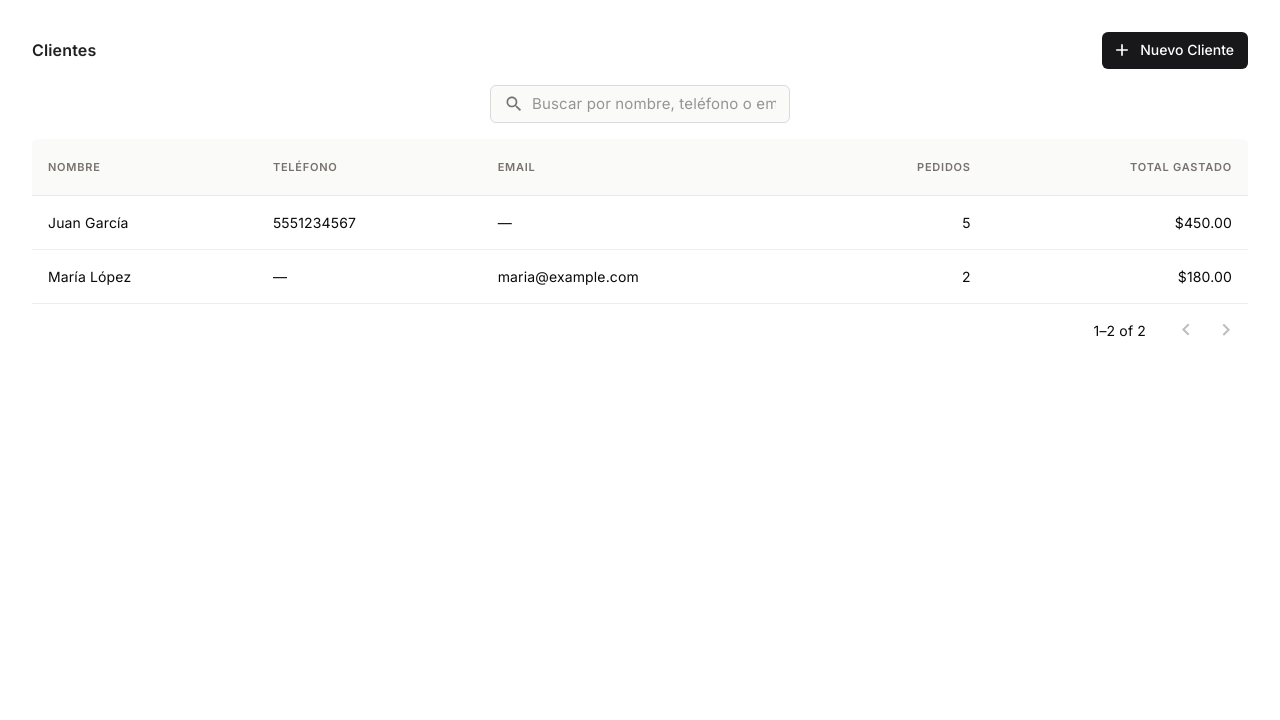
Scenario: CustomerList › saves customer edit
This screenshot has width=1280, height=720.
Click the text "Juan García" at (144, 223), box [32,196,257,250]
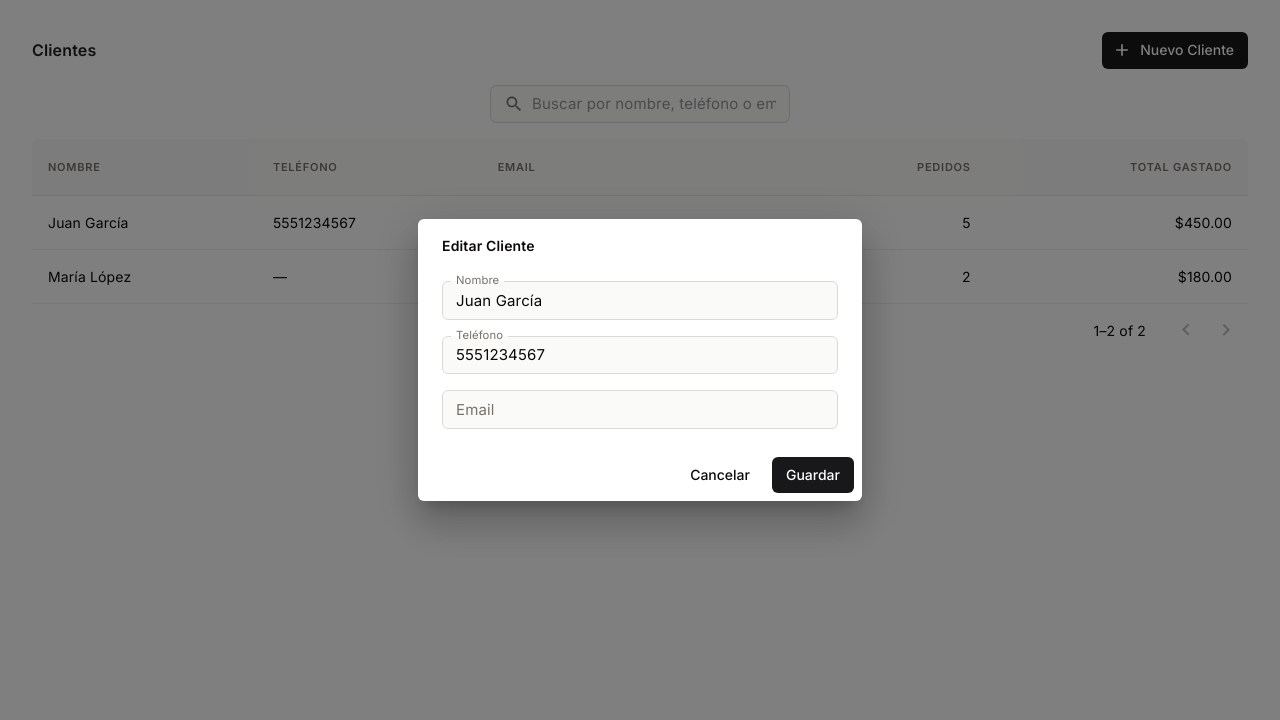
Replace the text in the field named "nombre cliente" with "Juan García Updated" at (640, 300), box [442,281,838,320]
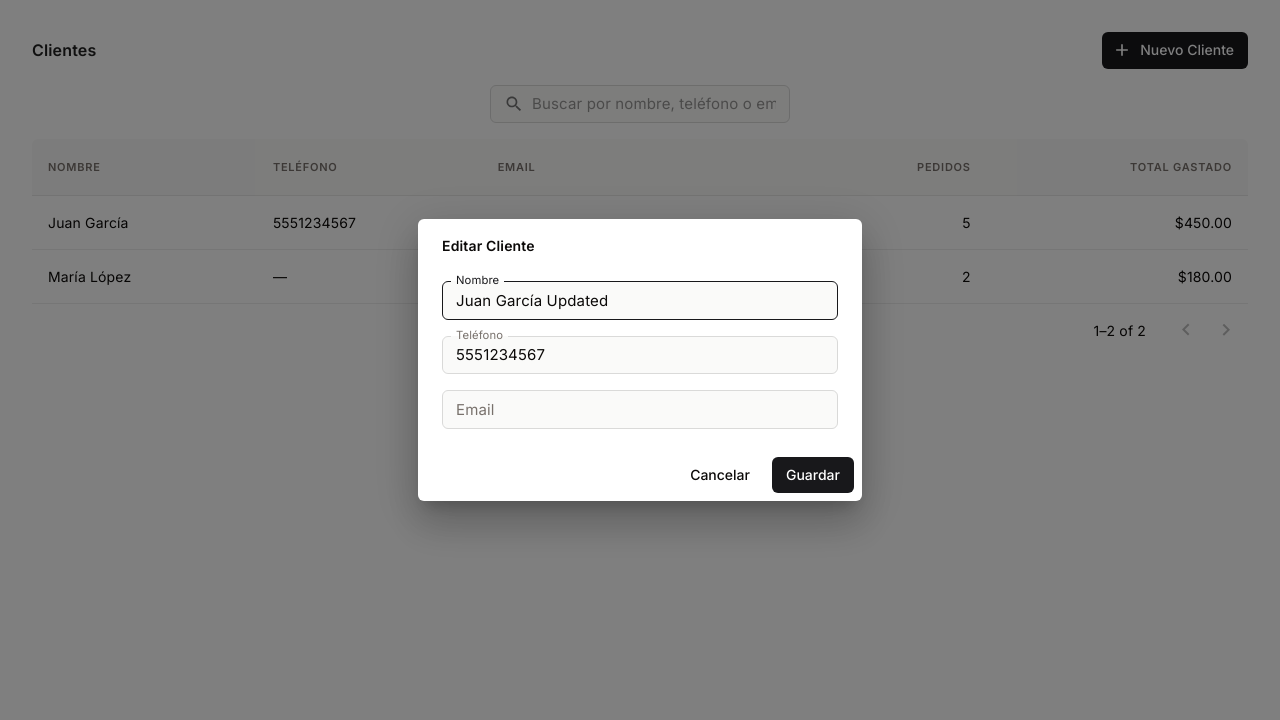
Click the button "Guardar" at (813, 475), box [772,457,854,493]
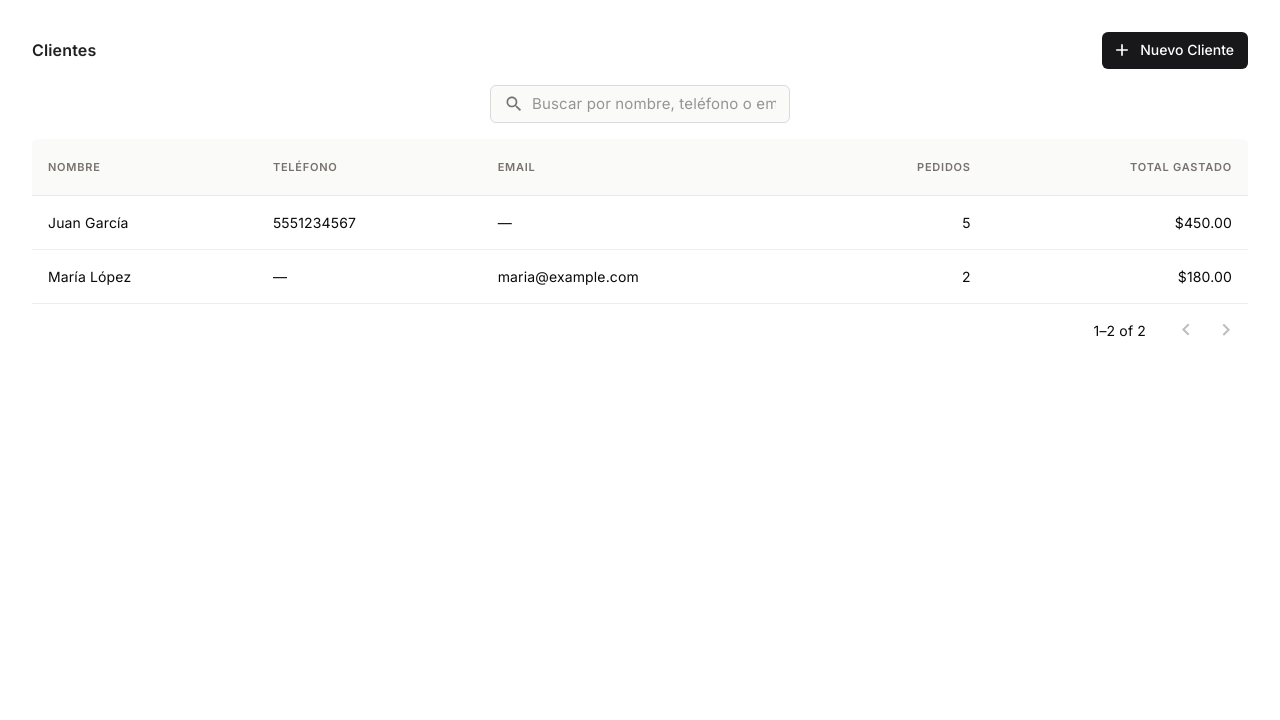
Expected: the heading "Editar Cliente" is gone
